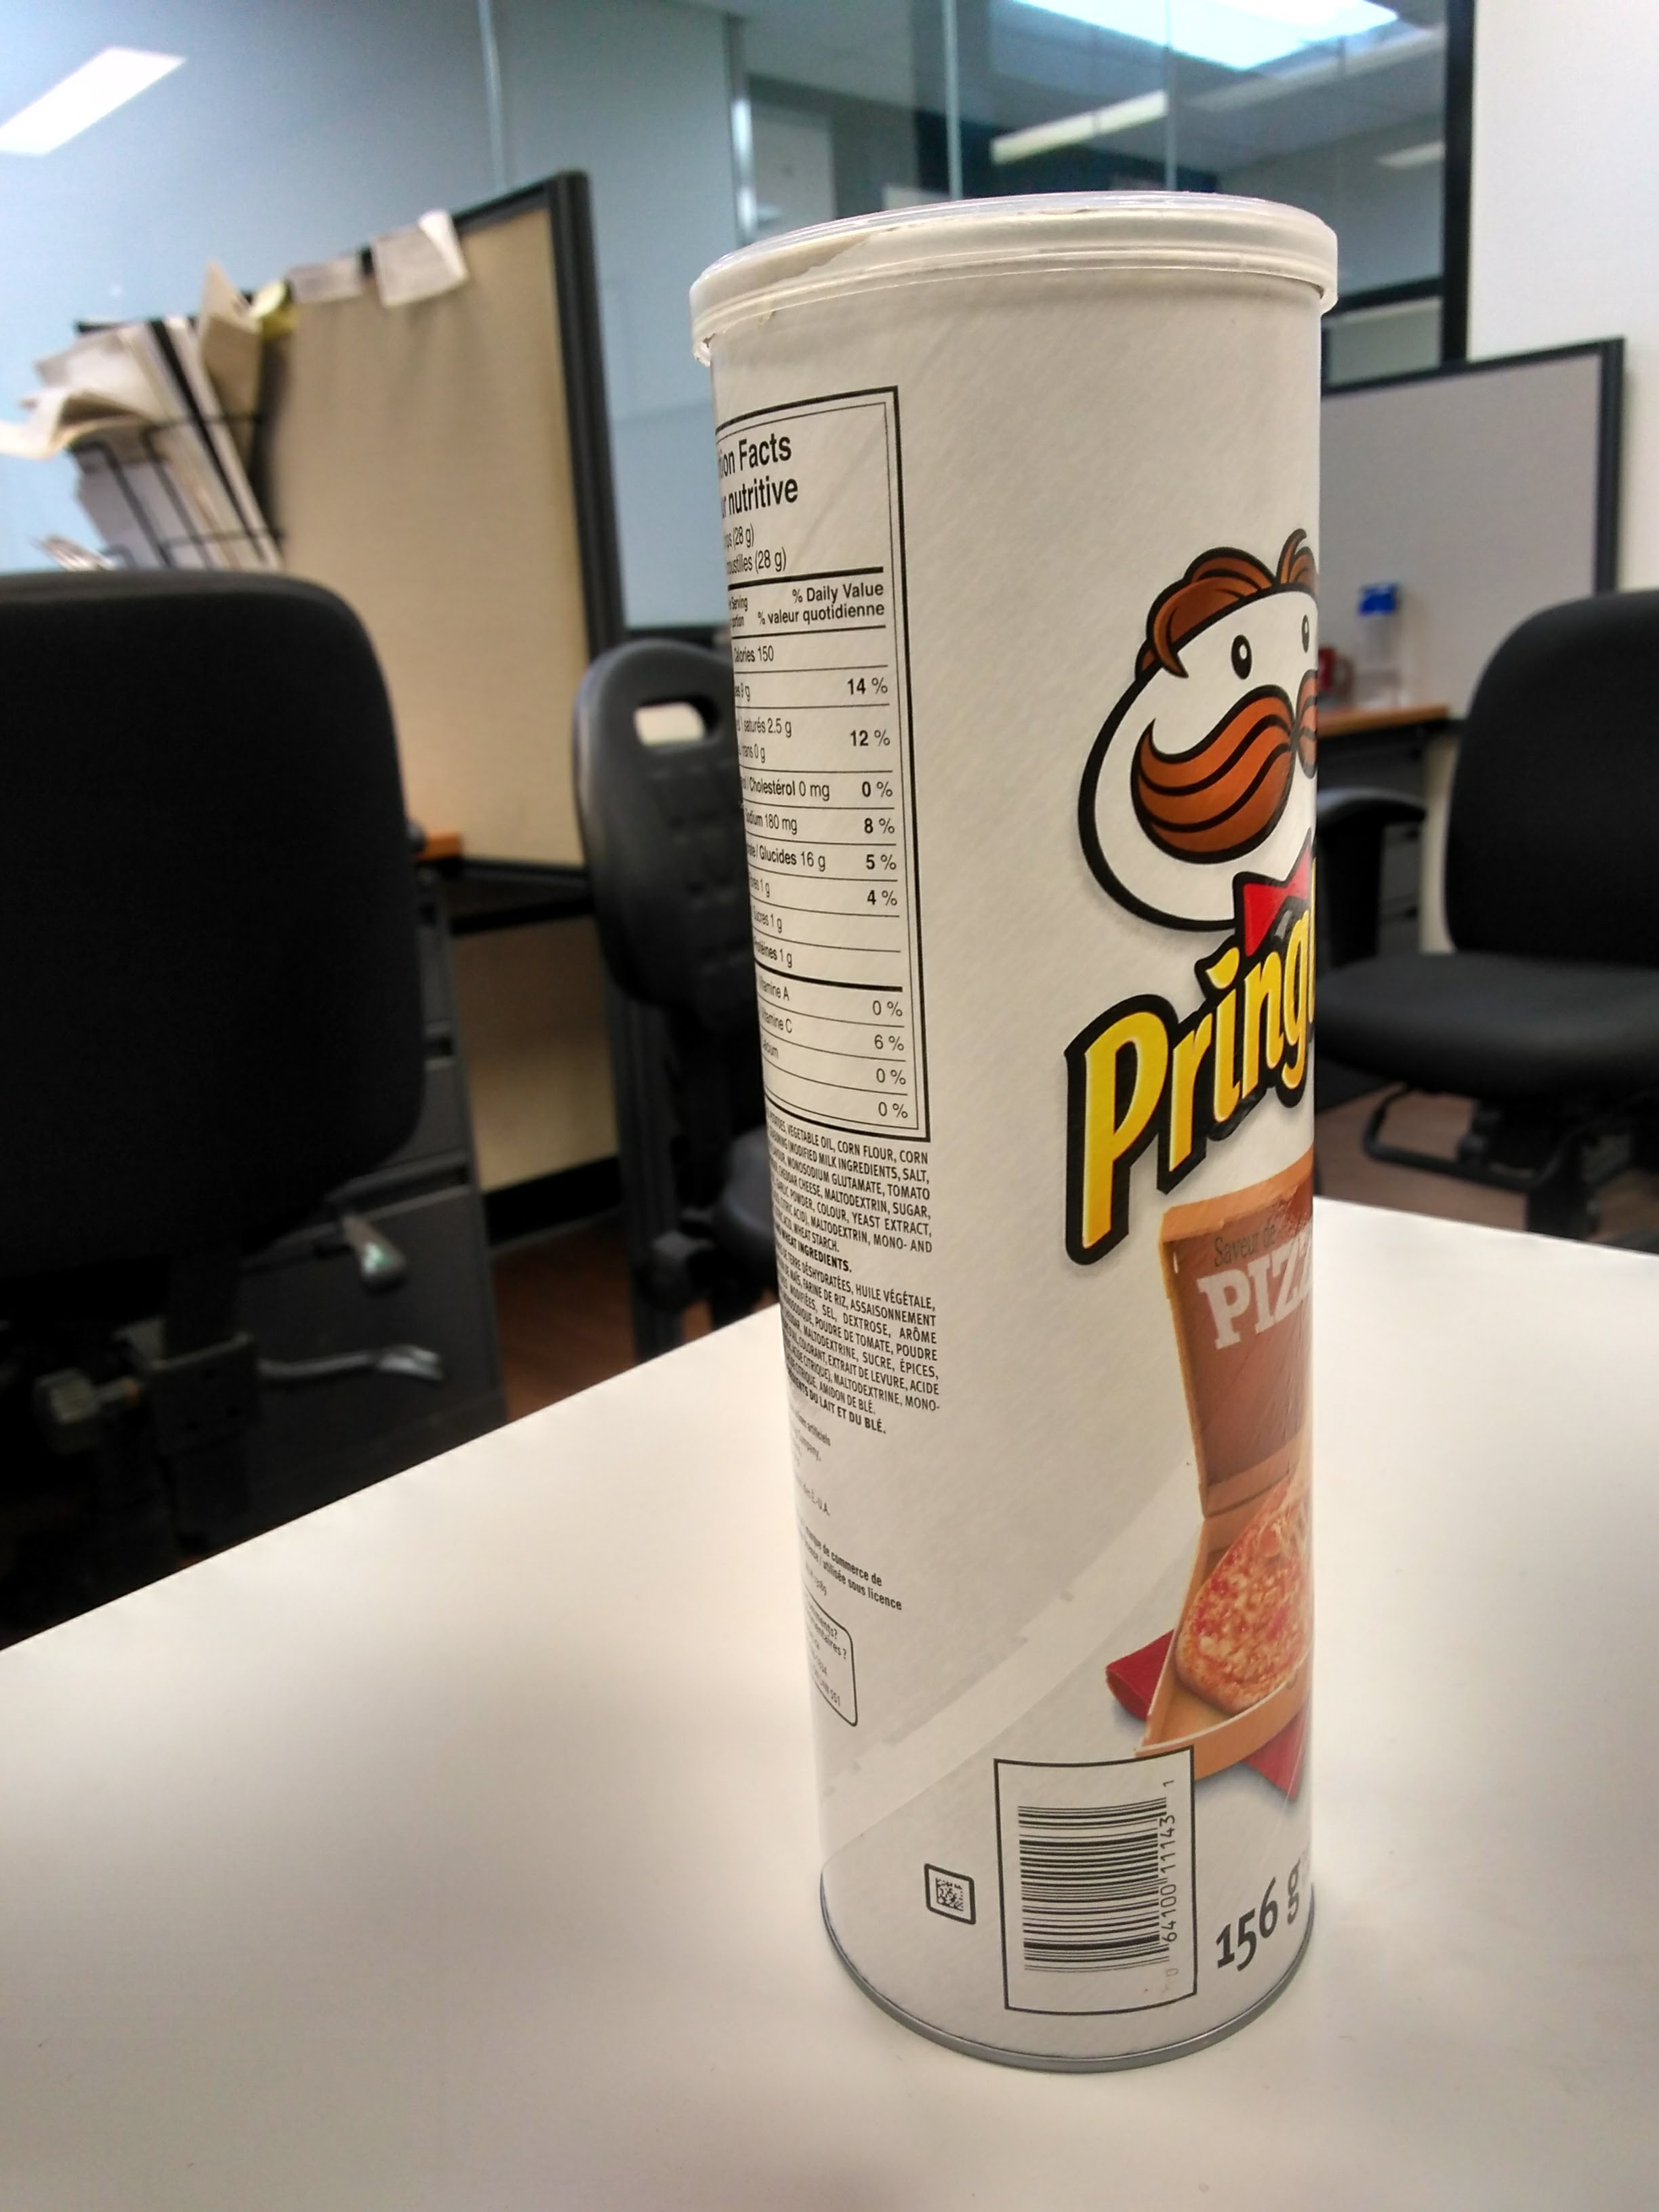pringles: (648, 185, 1399, 2092)
